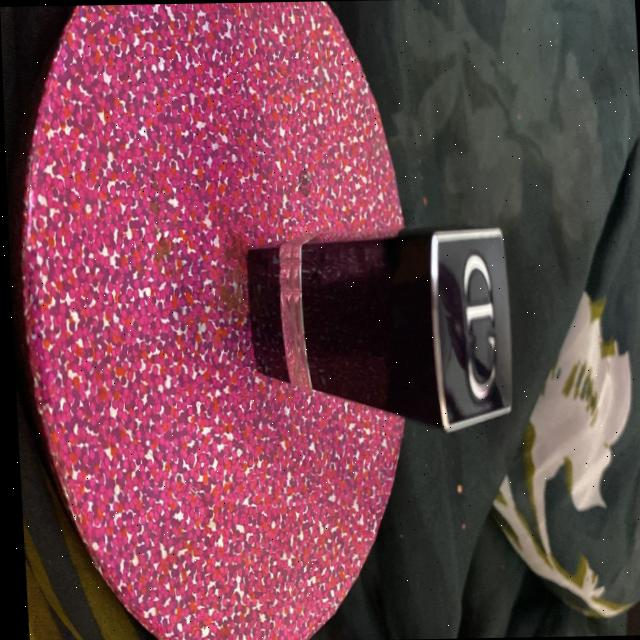lip stick: (223, 172, 542, 471)
